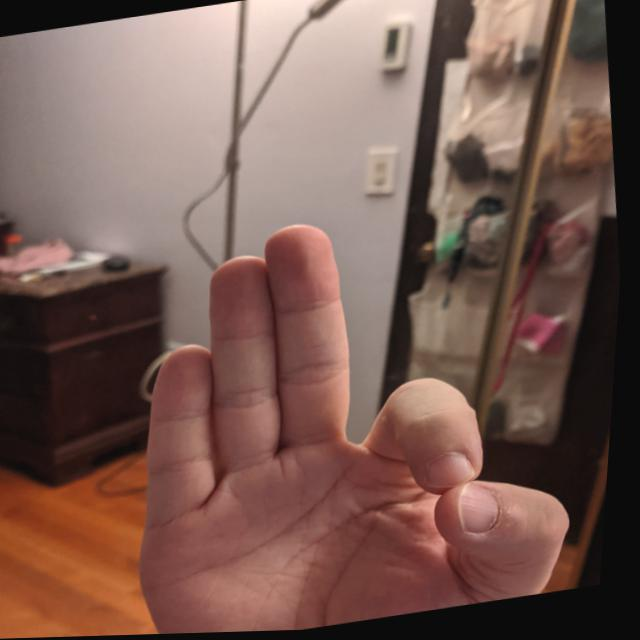F: (94, 178, 613, 636)
